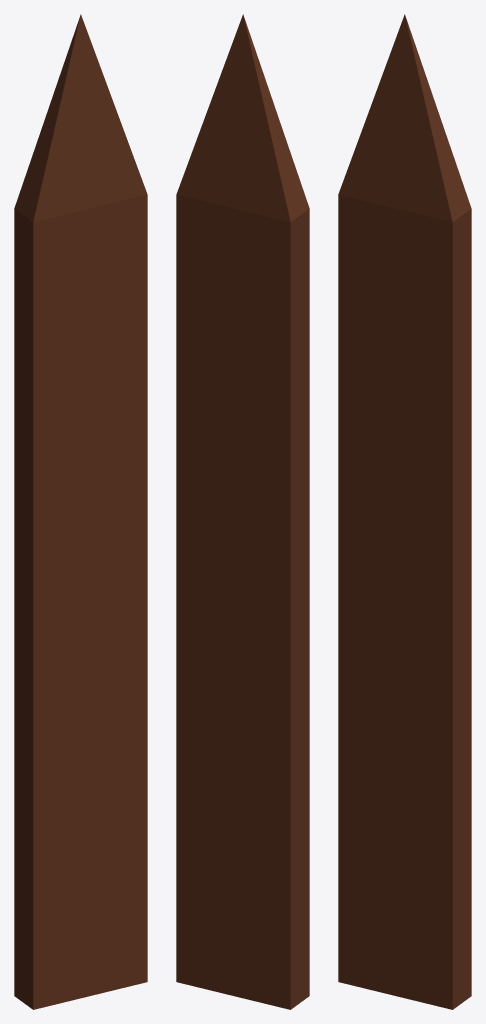
File: WoodFence.fbx
3 renders of one model, left to right at view 1: azimuth 30°, elevation 25°; view 2: azimuth 150°, elevation 25°; view 3: azimuth 330°, elevation 25°, orthographic.
Parts seen in each view (by area): view 1: Cube; view 2: Cube; view 3: Cube.
Boxes of the visible parts, box(x1,y1,x2,y2) form: Cube: box(14, 14, 147, 1009); Cube: box(176, 14, 309, 1009); Cube: box(338, 14, 471, 1009).
Size of the model in its own units: 155 by 1259 by 44.25.
